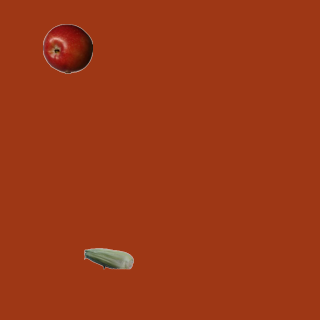Apple Braeburn: (42, 23, 92, 73)
Corn Husk: (83, 233, 133, 283)
